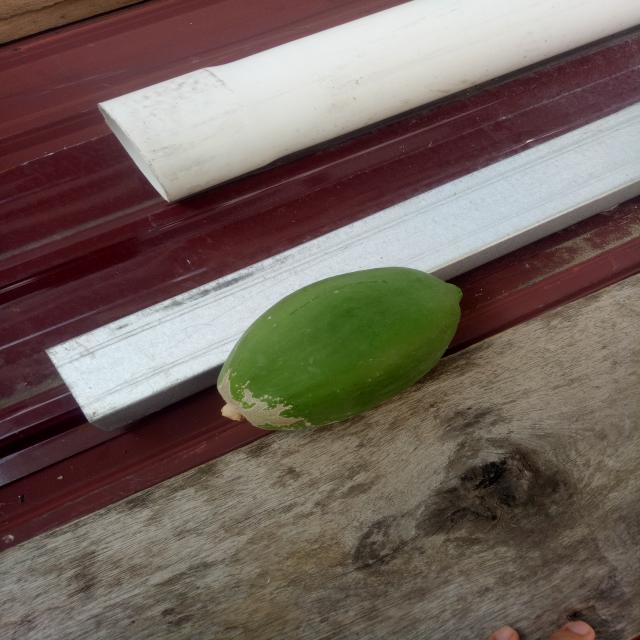Pepaya unrippen: (210, 261, 473, 430)
